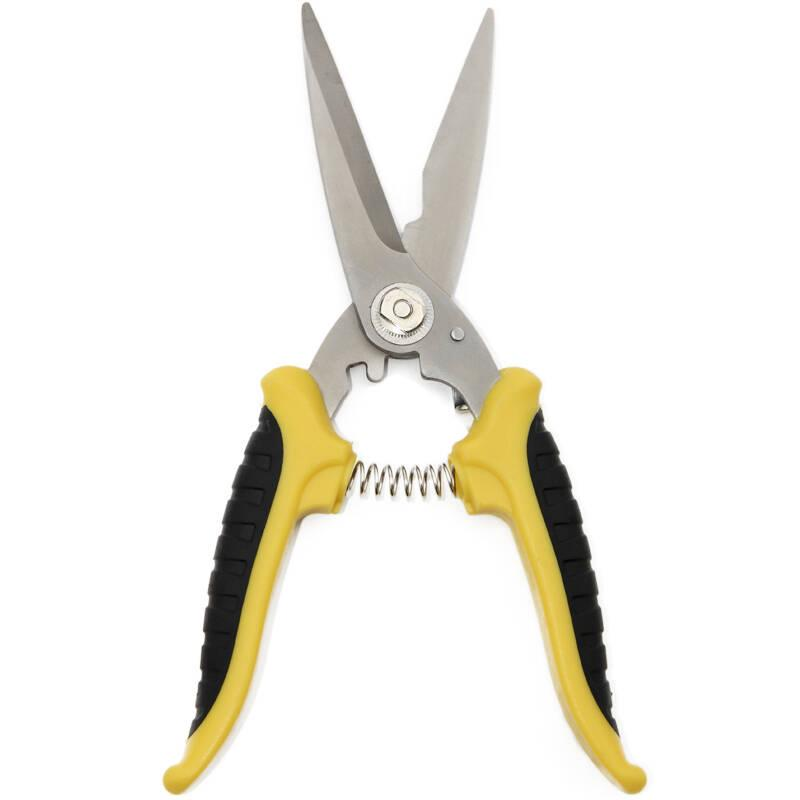scissor: (214, 8, 675, 800)
